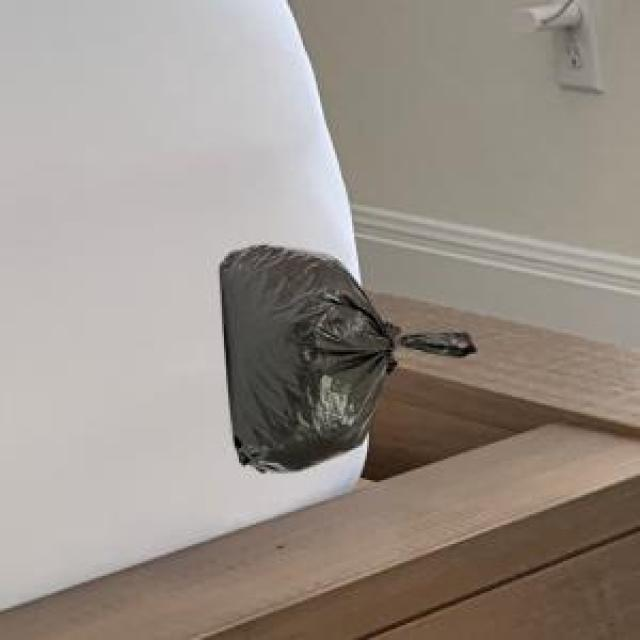waste: (219, 245, 400, 472), (400, 332, 476, 356)
